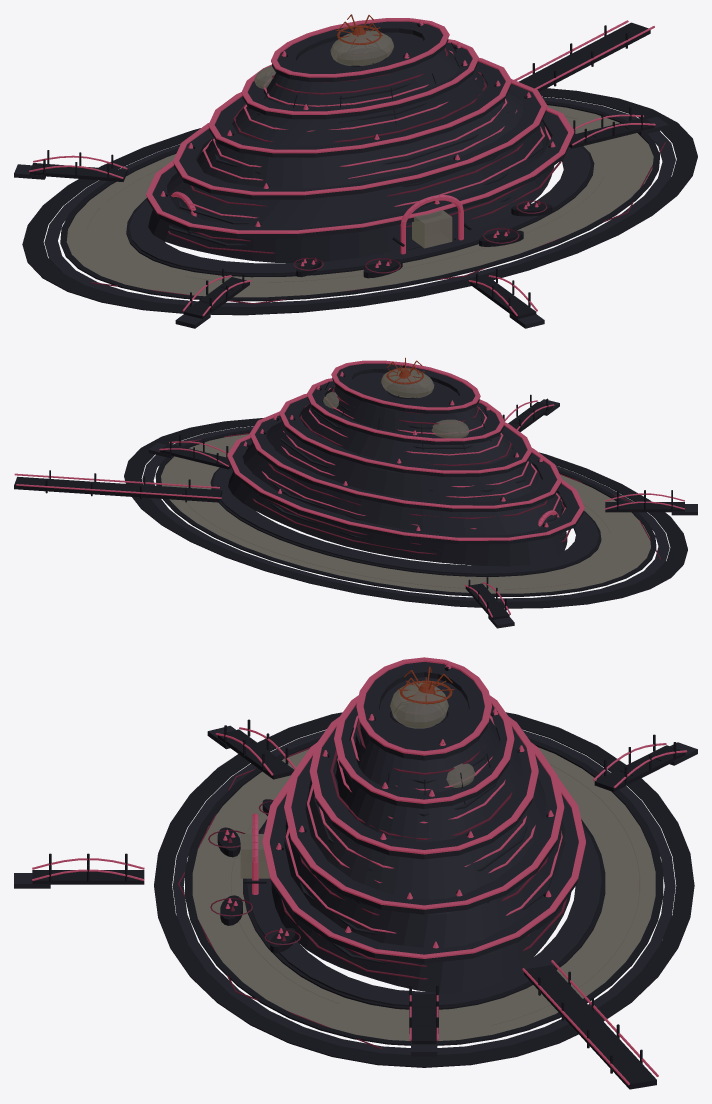
The model's file is relationships-ext.glb.
3 views of the same model, one above another, from view 1: azimuth 30°, elevation 25°; view 2: azimuth 150°, elevation 25°; view 3: azimuth 270°, elevation 25° (orthographic). The views are drawn at different scales.
Visible parts, largest first — view 1: relationships_ext_base_packed, relationships_ext_detail_packed, relationships_ext_glass_packed, relationships_ext_accent_packed, relationships_ext_emissive_packed, relationships_ext_energy_packed; view 2: relationships_ext_base_packed, relationships_ext_detail_packed, relationships_ext_glass_packed, relationships_ext_accent_packed, relationships_ext_emissive_packed, relationships_ext_energy_packed; view 3: relationships_ext_base_packed, relationships_ext_detail_packed, relationships_ext_glass_packed, relationships_ext_accent_packed, relationships_ext_emissive_packed, relationships_ext_energy_packed.
Part boxes in pixels (x1,y1,x2,y2): relationships_ext_base_packed: (14,21,675,328); relationships_ext_detail_packed: (22,22,697,318); relationships_ext_glass_packed: (66,30,653,297); relationships_ext_accent_packed: (29,18,655,316); relationships_ext_emissive_packed: (91,47,665,304); relationships_ext_energy_packed: (336,14,382,44); relationships_ext_base_packed: (142,363,697,628); relationships_ext_detail_packed: (14,365,687,619); relationships_ext_glass_packed: (161,368,650,593); relationships_ext_accent_packed: (14,360,684,617); relationships_ext_emissive_packed: (187,385,660,559); relationships_ext_energy_packed: (386,357,424,384); relationships_ext_base_packed: (14,662,697,1056); relationships_ext_detail_packed: (32,666,694,1089); relationships_ext_glass_packed: (192,682,655,1040); relationships_ext_accent_packed: (32,657,687,1085); relationships_ext_emissive_packed: (178,720,567,1048); relationships_ext_energy_packed: (398,666,454,704).
Bounding box in the file's own units: 29.61 × 7.34 × 21.38.
